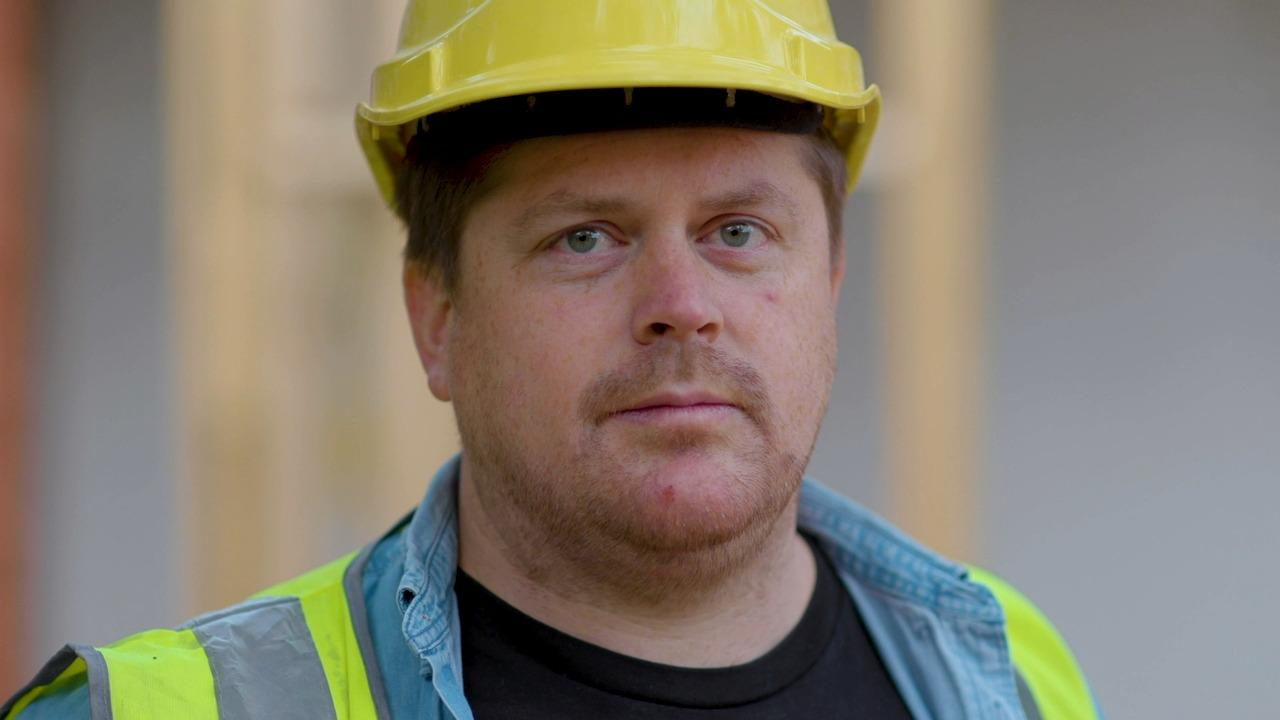helmet: (356, 1, 868, 209)
